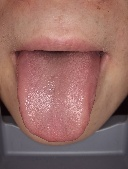tongue: (15, 58, 96, 143)
